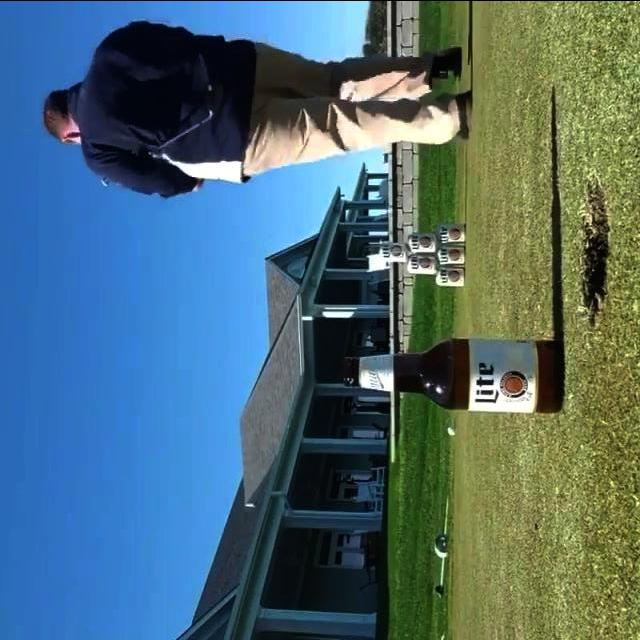golf ball: (447, 424, 457, 435)
golf club-handle: (102, 82, 216, 184)
golf club-head: (205, 85, 217, 116)
